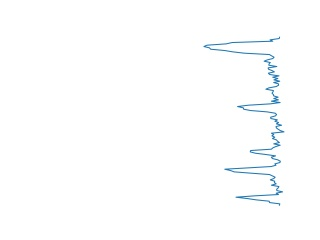distalBar: (200, 33, 283, 86)
interdistributaryEstuary: (234, 86, 285, 141)
underwaterNaturalLevee: (221, 141, 286, 207)
